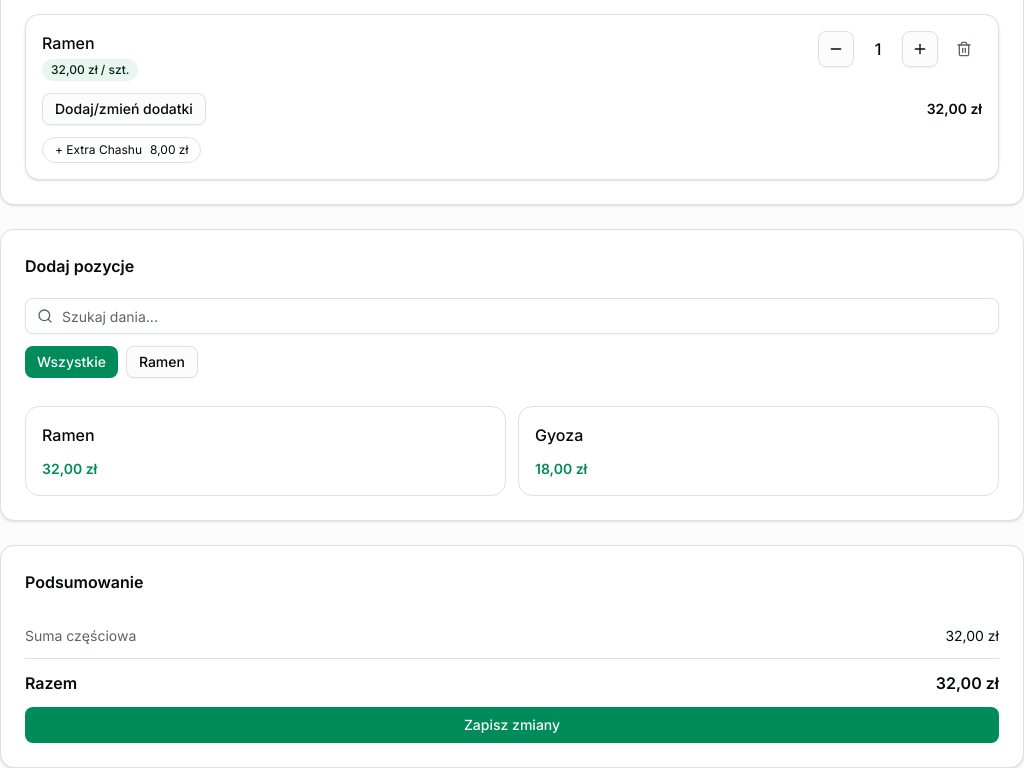
Test: OrderEditForm › blocks saving when a paid online order changes total amount
The width and height of the screenshot is (1024, 768).
(page scrolled)
Step 1. Click the button "Gyoza 18,00 zł" → (559, 435), box [518, 406, 999, 496]
(page scrolled)
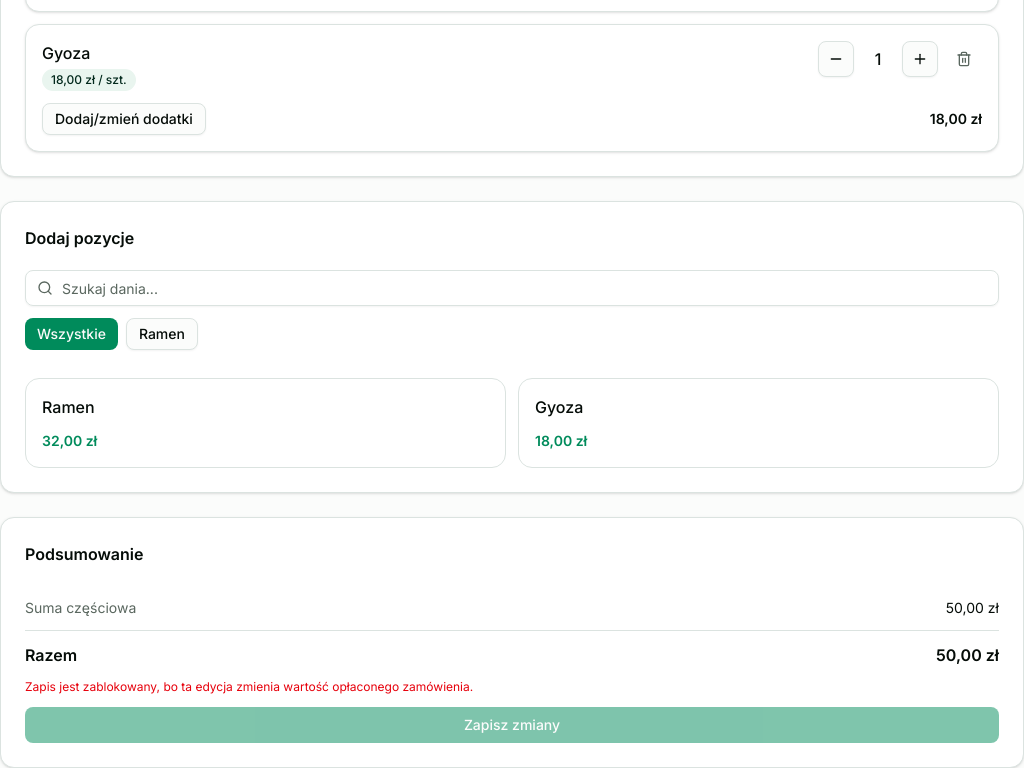
Expected: the text "Zapis jest zablokowany, bo ta edycja zmienia wartość opłaconego zamówienia" is shown, [25, 679, 473, 694]
Expected: the button "Zapisz zmiany" is disabled, [25, 707, 999, 743]
